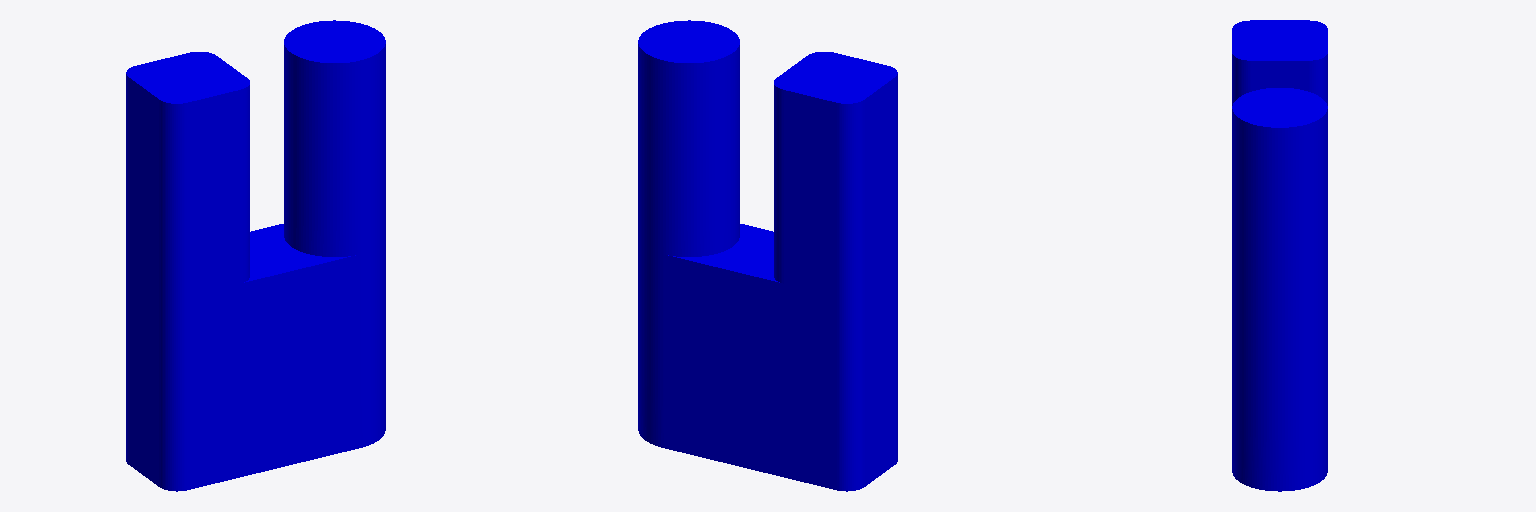
The robot description file, URDF, robot "board1_block4":
<?xml version="1.0"?>
<robot name="board1_block4">
    <link name="board1_block4">
        <visual>
            <origin xyz="0 0 0 " rpy=" 0 0 0"/>
            <geometry>
                <mesh filename="../meshes/SIMO_Board1_Block4.stl" scale="0.001 0.001 0.001"/>
            </geometry>
            <material name="red">
                <color rgba="0.0 0.0 1.0 1.0"/>
            </material>
        </visual>
        <collision>
            <origin xyz="0 0 0" rpy="0 0 0"/>
            <geometry>
                <mesh filename="../meshes/SIMO_Board1_Block4.stl" scale="0.001 0.001 0.001"/>
            </geometry>
        </collision>
    </link>
</robot>

--- What the picture shows (computed from the rendered views, not written in the file) ---
3 views of the same robot in one strip: view 1: azimuth 30°, elevation 25°; view 2: azimuth 150°, elevation 25°; view 3: azimuth 270°, elevation 25° (orthographic).
Model board1_block4 with 1 links and 0 joints (none), rooted at board1_block4, posed every joint at zero.
Links seen in each view (by area): view 1: board1_block4; view 2: board1_block4; view 3: board1_block4.
Boxes of the visible links, x1=… form: board1_block4: x1=126, y1=20, x2=385, y2=491; board1_block4: x1=638, y1=20, x2=897, y2=491; board1_block4: x1=1232, y1=20, x2=1327, y2=491.
Size in the robot's own frame: 0.0634 by 0.0238 by 0.1 metres.
1 mesh visuals loaded from 1 distinct referenced files (1 ASCII STL).
